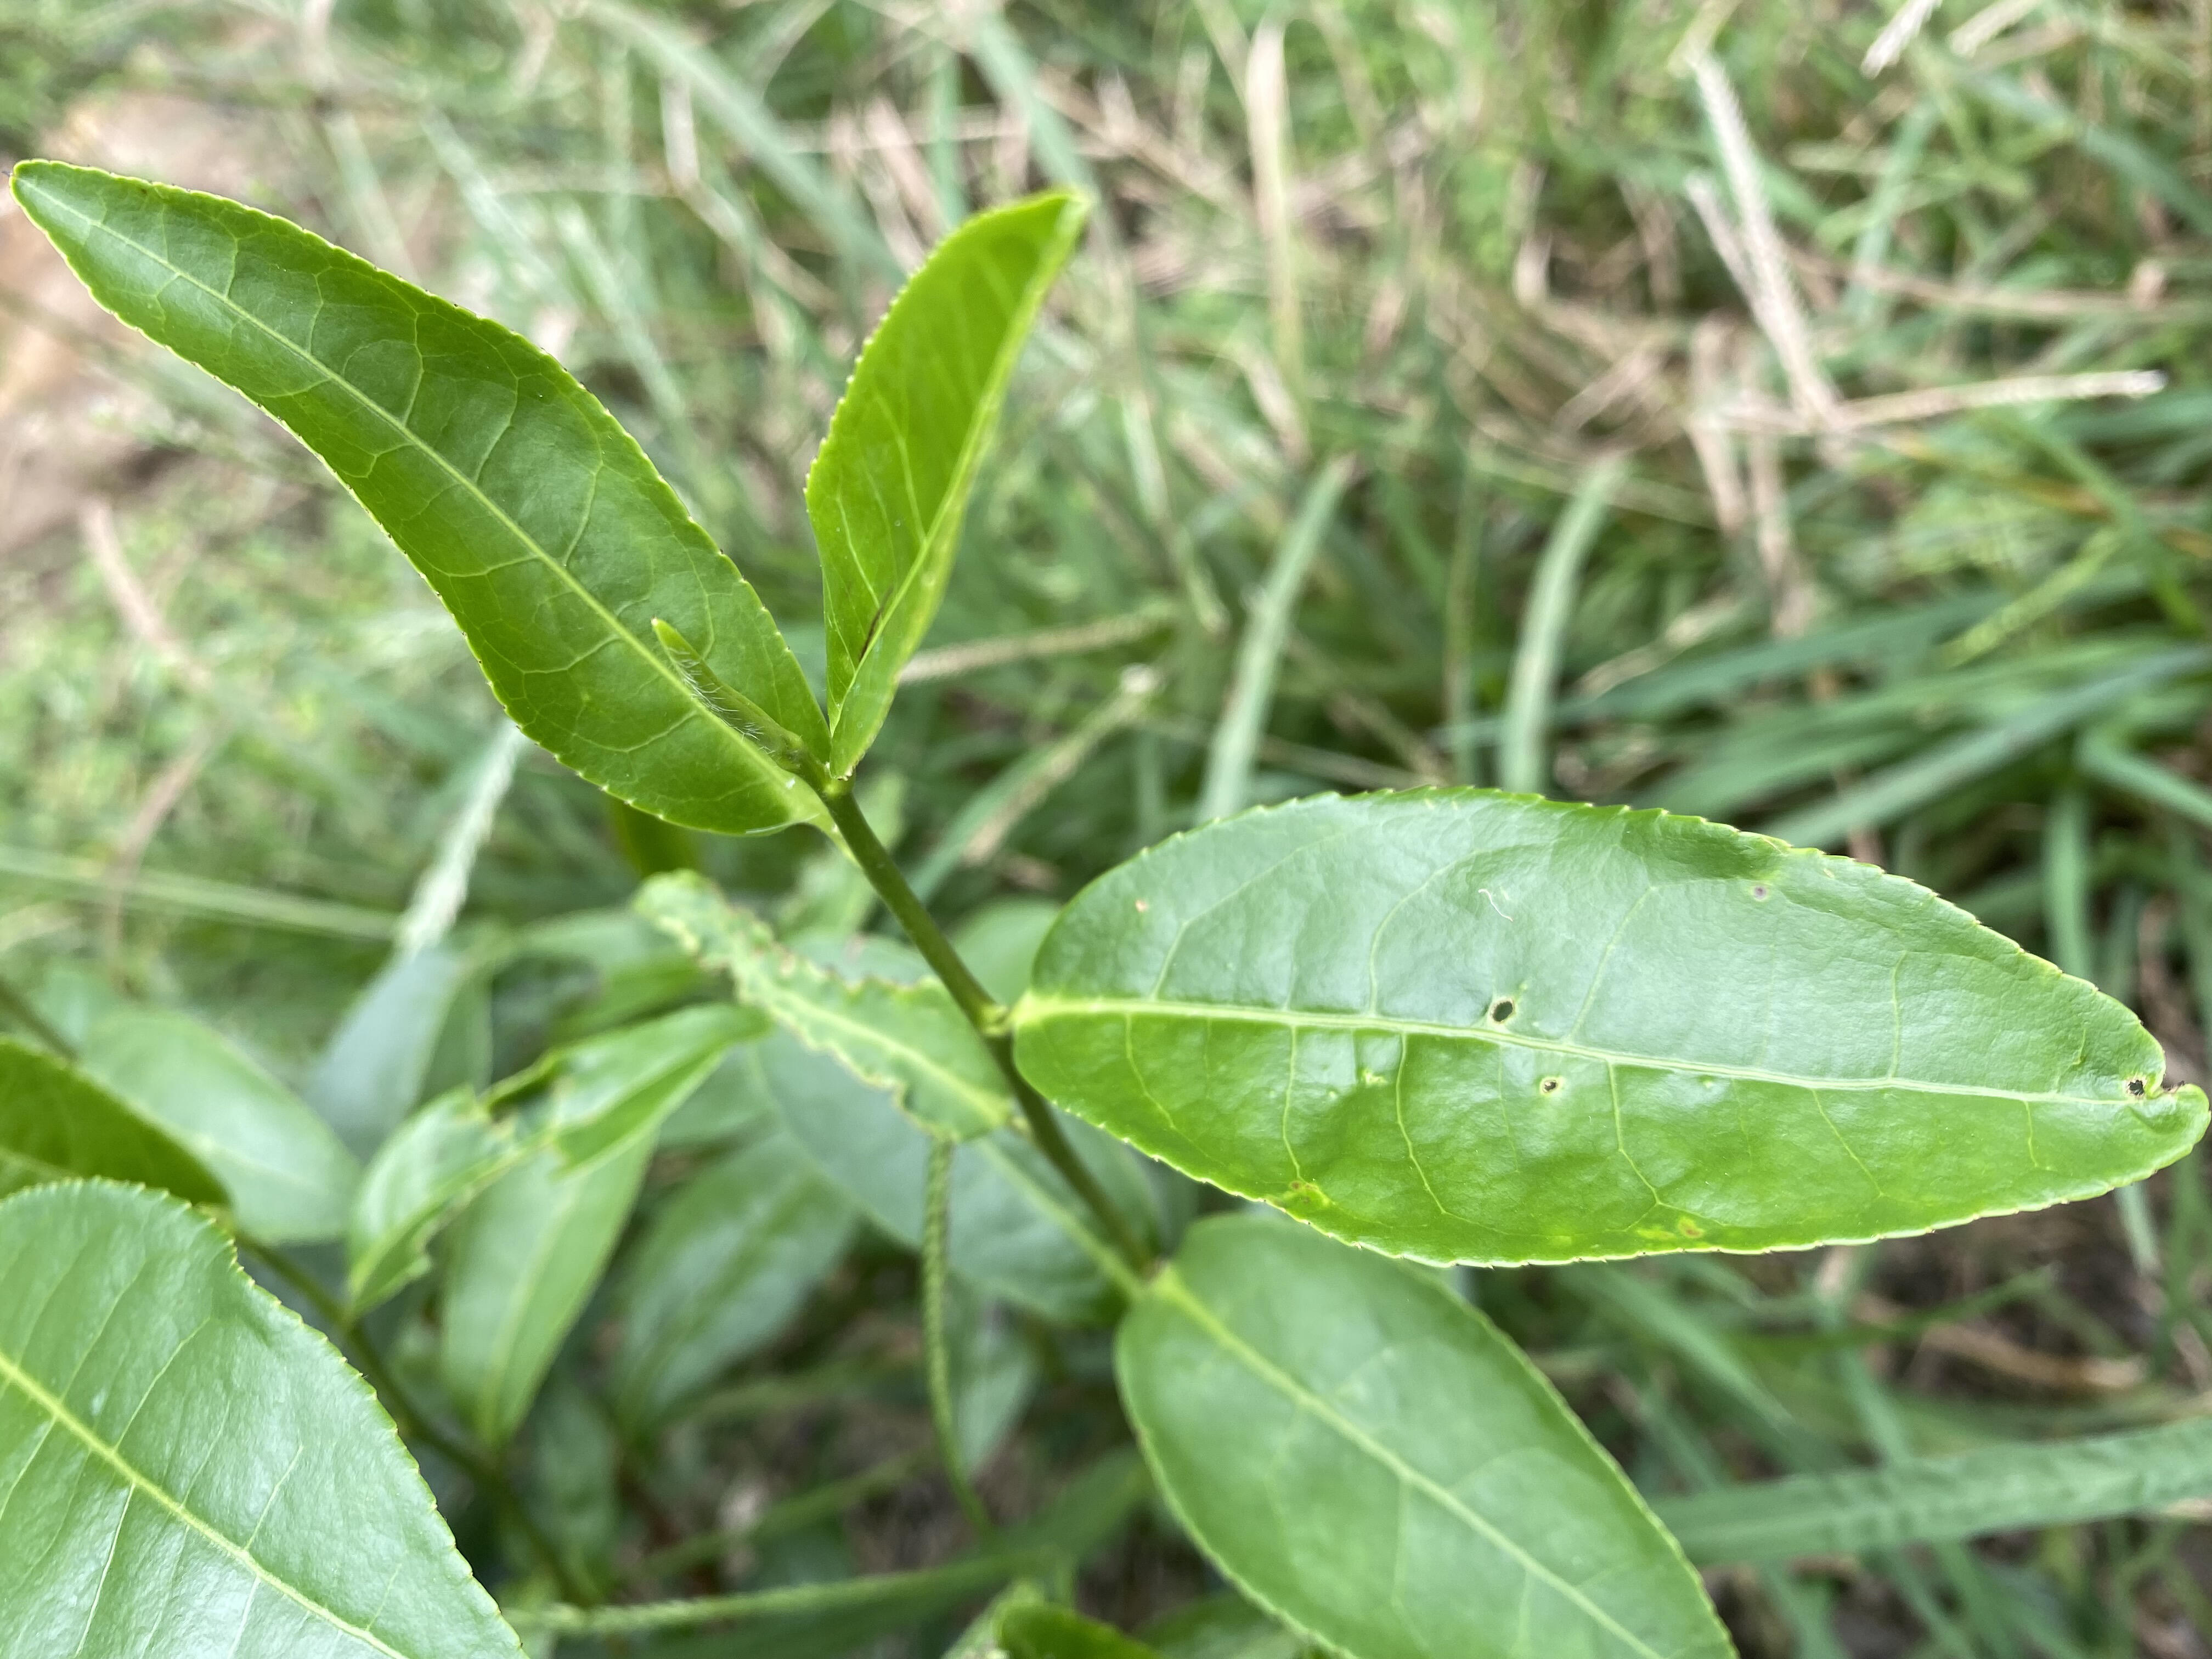chihuo_high: (632, 863, 1010, 1134)
chihuo_low: (1008, 782, 2202, 1258)
healthy: (9, 157, 833, 835), (5, 1178, 529, 1656)
